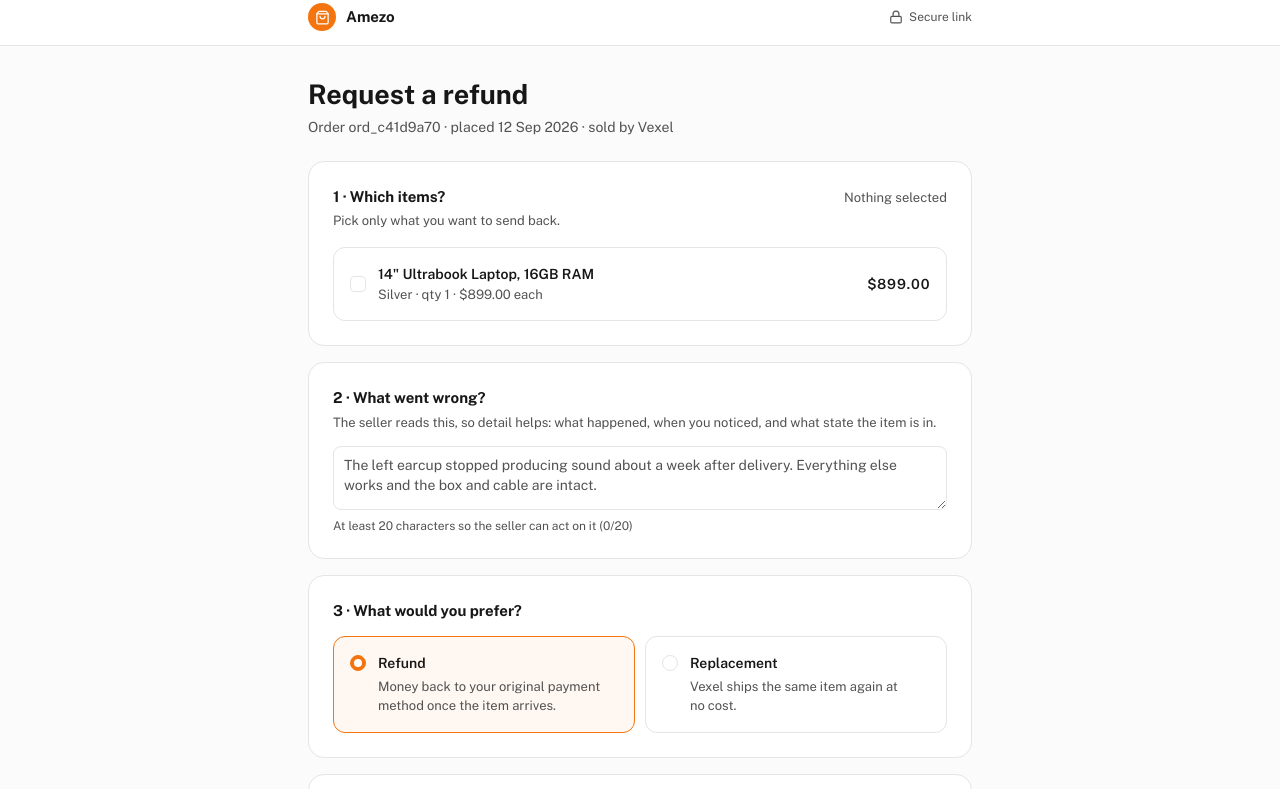
Test: RefundRequest › will not submit until an item and enough detail are given
Expected: the text "14\" Ultrabook Laptop, 16GB RAM" is shown, [378, 266, 594, 282]
Click the checkbox named "14\" Ultrabook Laptop, 16GB RAM" at (358, 284), box [350, 276, 366, 292]
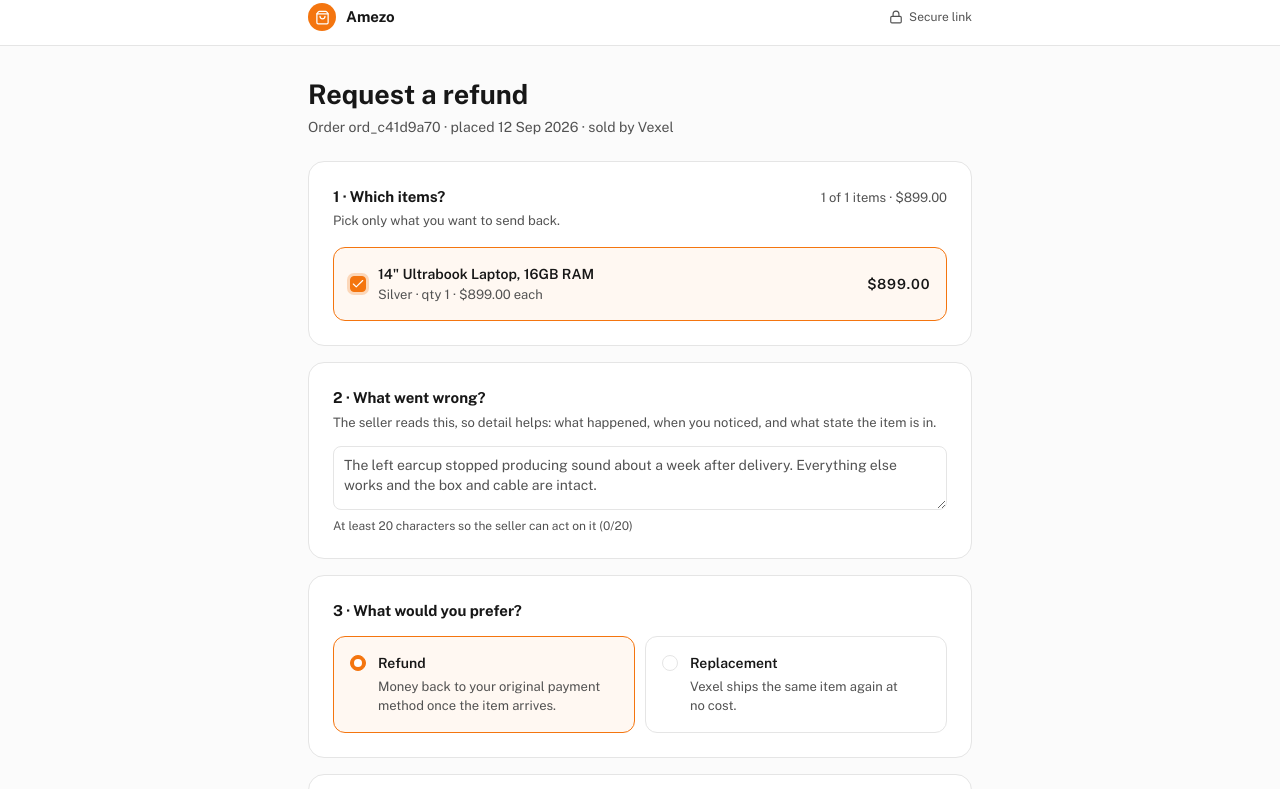
Type "The screen developed a dead pixel column about a week after it arrived." into the text box named "What went wrong" at (640, 478), box [333, 446, 947, 510]
(page scrolled)
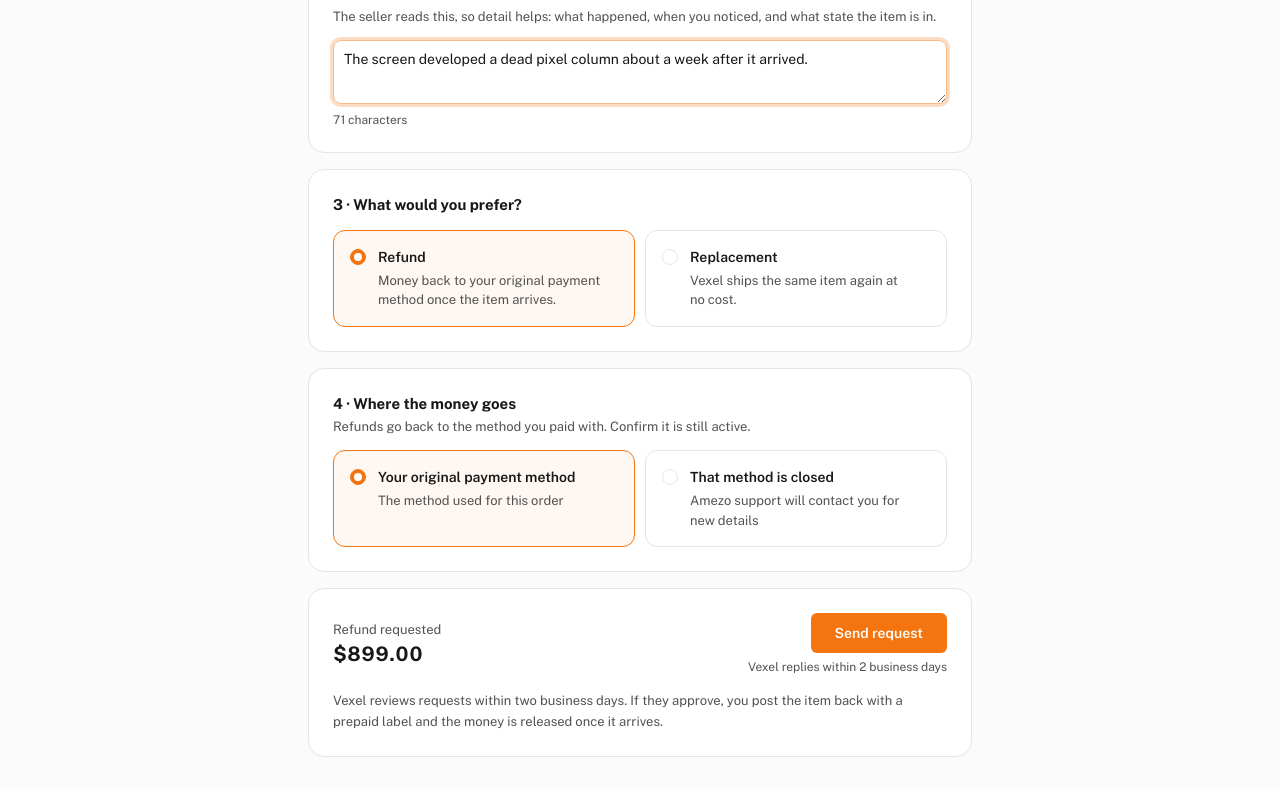
Expected: the button "Send request" is enabled, [810, 614, 947, 654]
